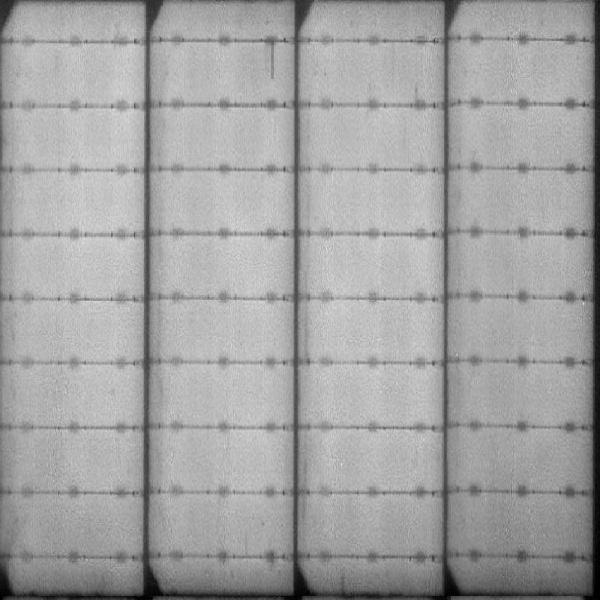scratch: (266, 41, 280, 81)
